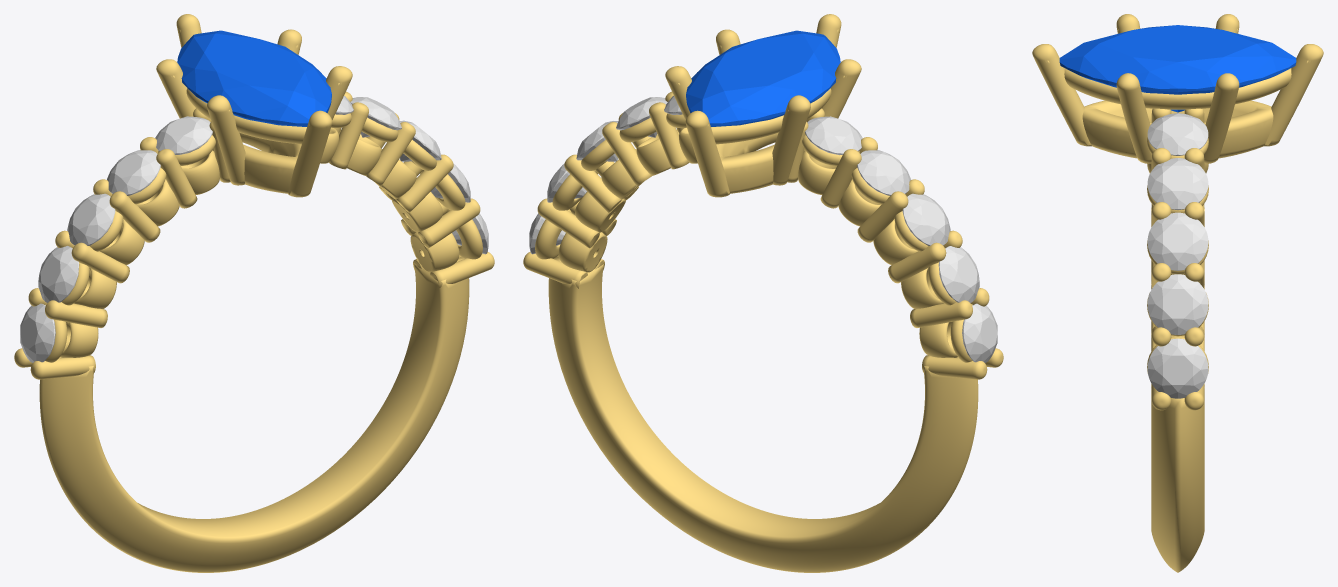
File: bluesapphire-marquise-yellowgold-6prong-knifeedge-11stone.glb
3 renders of one model, left to right at view 1: azimuth 30°, elevation 25°; view 2: azimuth 150°, elevation 25°; view 3: azimuth 270°, elevation 25°, orthographic.
Visible parts, largest first — view 1: metal.001, stone.001, dia.014, dia.013, dia.015, dia.001, dia.016, dia.020; view 2: metal.001, stone.001, dia.014, dia.013, dia.015, dia.001, dia.016, dia.020; view 3: metal.001, stone.001, dia.018, dia.017, dia.019, dia.020, dia.021.
Boxes of the visible parts, x1,y1,x2,y2 form: metal.001: [14, 14, 494, 572]; stone.001: [177, 30, 331, 126]; dia.014: [67, 193, 115, 245]; dia.013: [38, 246, 79, 302]; dia.015: [107, 150, 160, 195]; dia.001: [20, 303, 55, 362]; dia.016: [155, 116, 212, 154]; dia.020: [350, 97, 401, 137]; metal.001: [523, 14, 1003, 572]; stone.001: [686, 30, 840, 126]; dia.014: [902, 193, 950, 245]; dia.013: [938, 246, 979, 302]; dia.015: [857, 150, 910, 195]; dia.001: [962, 303, 997, 362]; dia.016: [805, 116, 862, 155]; dia.020: [616, 97, 667, 137]; metal.001: [1032, 14, 1323, 572]; stone.001: [1059, 25, 1296, 112]; dia.018: [1147, 274, 1208, 334]; dia.017: [1147, 338, 1208, 398]; dia.019: [1147, 212, 1208, 270]; dia.020: [1147, 158, 1208, 209]; dia.021: [1147, 113, 1208, 155].
Size of the model in its own units: 21.88 by 22.93 by 11.96.
